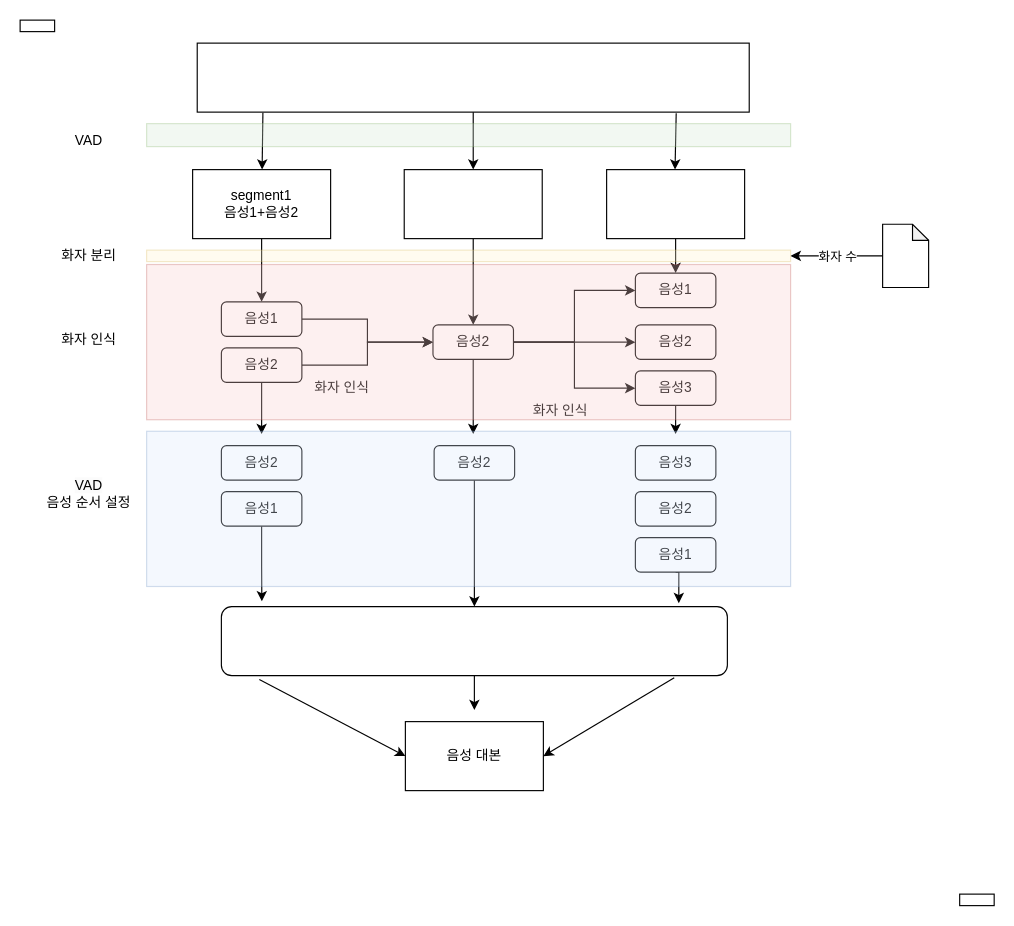
This 1014x926 diagram has some shape labels left out. Each missing label, with the centre of its shape:
"json" belongs at pixel 905 255.
"segment2 음성2" belongs at pixel 472 203.
"segment3 음성1+음성2+음성3" belongs at pixel 675 203.
"whisper AI" belongs at pixel 473 640.
"원본 음성" belongs at pixel 472 77.
